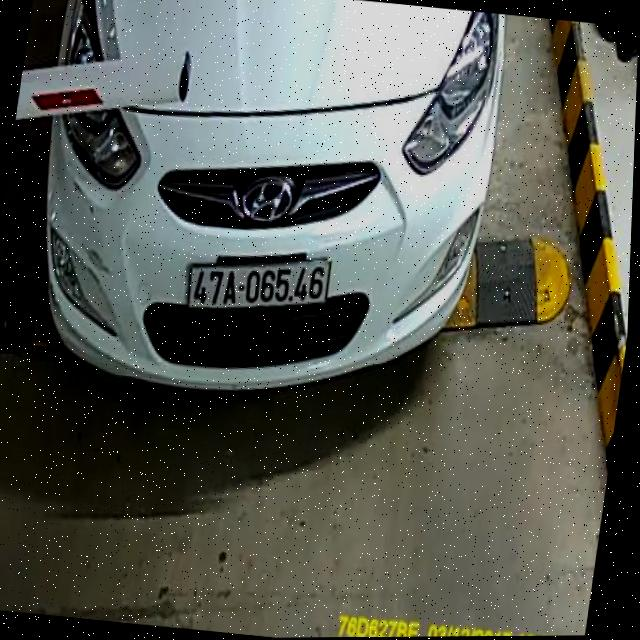car: (2, 0, 519, 426)
plate: (180, 247, 335, 325)
